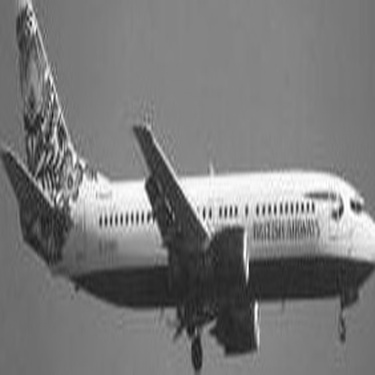airplane: (2, 4, 370, 371)
